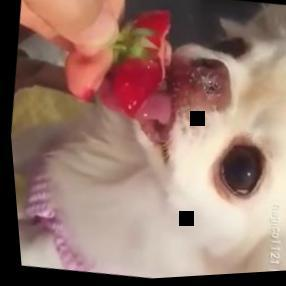nasal_discharge: (187, 64, 233, 106)
